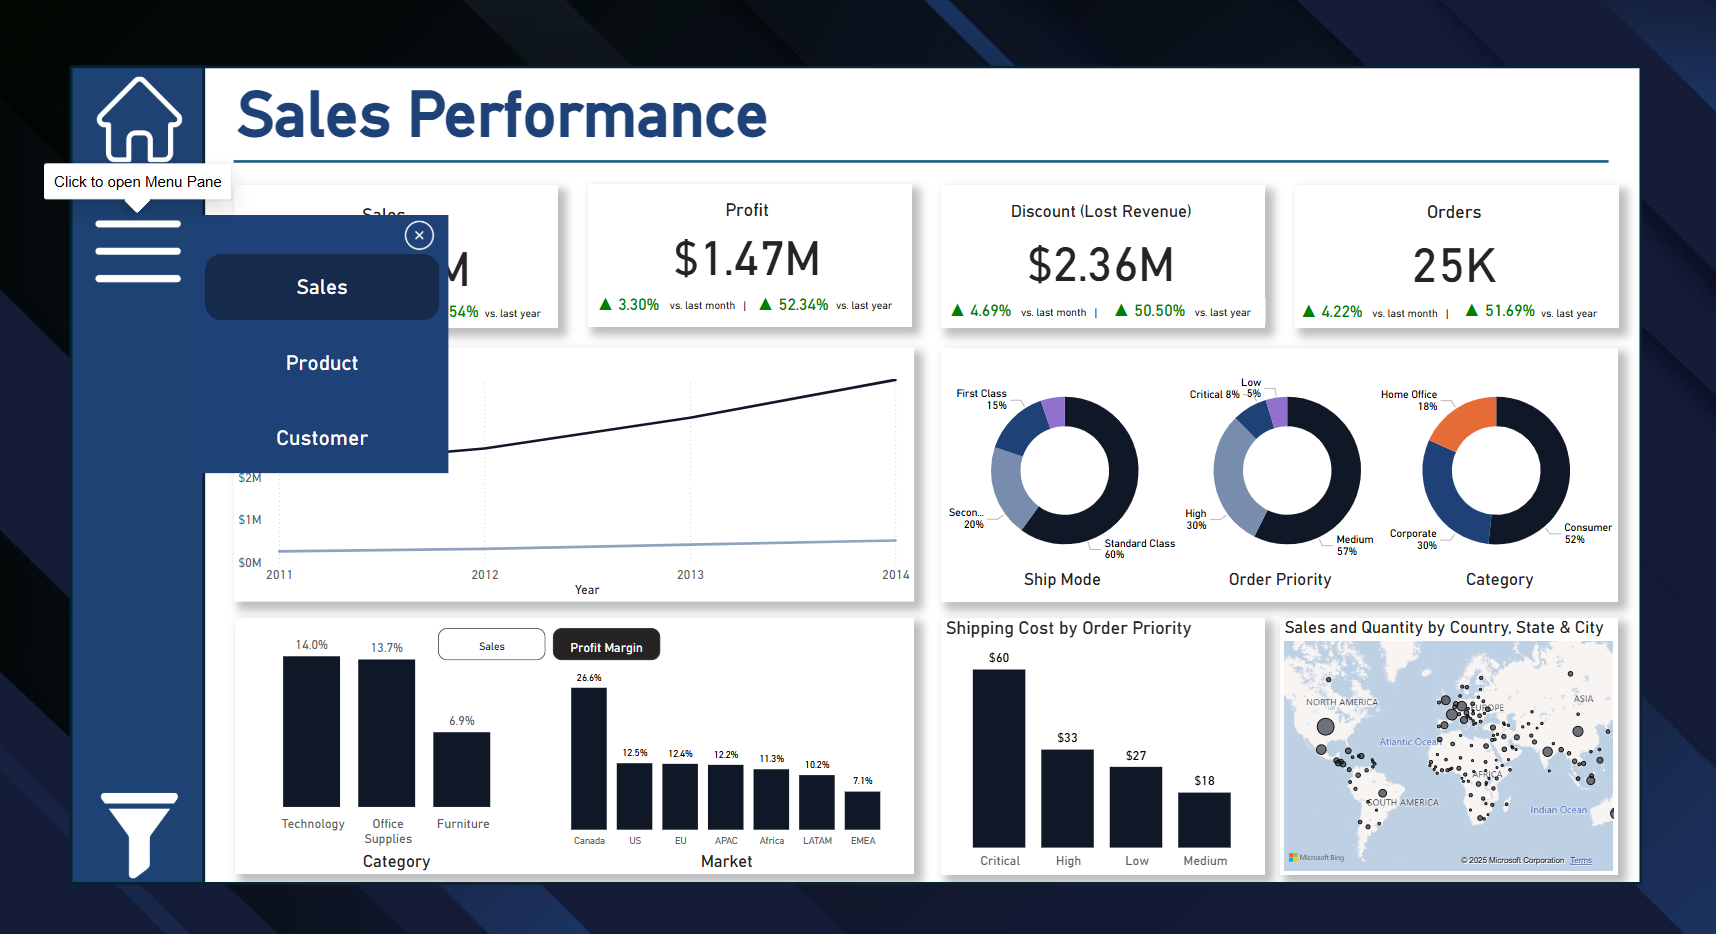

This screenshot's page, from the dashboard's own definition file:
{"tool":"powerbi","page":{"name":"Sales","canvas":[1980,1080],"ordinal":1},"visuals":[{"type":"shape","box":[682.8,210.6,370,163],"z":0,"group":"g2"},{"type":"shape","box":[279,211,370,163],"z":0,"group":"g1"},{"type":"shape","box":[1086.9,211,370.2,163],"z":0,"group":"g4"},{"type":"shape","box":[1491,211,370,163],"z":0,"group":"g3"},{"type":"shape","box":[1087.4,397.1,773.8,290.3],"z":0},{"type":"card","fields":{"Values":["_Measures.Trend Icon MOM Profit"]},"box":[686.8,334.6,84.1,26.7],"z":1000,"group":"g2"},{"type":"card","fields":{"Values":["_Measures.Trend Icon MOM Sales"]},"box":[283,340,91,33],"z":1000,"group":"g1"},{"type":"card","fields":{"Values":["_Measures.Trend Icon MOM Discount"]},"box":[1089.6,340.9,83,28.4],"z":1000,"group":"g4"},{"type":"card","fields":{"Values":["_Measures.Trend Icon MOM Orders"]},"box":[1491,342,83,28],"z":1000,"group":"g3"},{"type":"shape","box":[279.4,706.1,776.3,293.9],"z":1000},{"type":"card","fields":{"Values":["_Measures.Trend Icon YOY Profit"]},"box":[866,334.9,103,28.9],"z":2000,"group":"g2"},{"type":"card","fields":{"Values":["_Measures.Trend Icon YOY Discount"]},"box":[1273.4,336,100,36.4],"z":2000,"group":"g4"},{"type":"card","fields":{"Values":["_Measures.Trend Icon YOY Orders"]},"box":[1672.8,336,103.4,37.5],"z":2000,"group":"g3"},{"type":"card","fields":{"Values":["_Measures.Trend Icon YOY Sales"]},"box":[464,339,105,34],"z":2000,"group":"g1"},{"type":"donutChart","fields":{"Category":["orders.Order Category"],"Y":["_Measures.Line Count"]},"box":[1583,403.2,277.7,270.2],"z":2000},{"type":"card","title":"Profit","fields":{"Values":["_Measures.Profit"]},"box":[757.4,227.5,216.3,99.4],"z":3000,"group":"g2"},{"type":"card","title":"Discount  (Lost Revenue)","fields":{"Values":["_Measures.Discount (Lost Revenue)"]},"box":[1161.6,229.6,216.4,109.2],"z":3000,"group":"g4"},{"type":"card","title":"Orders","fields":{"Values":["_Measures.Order Count"]},"box":[1565.3,229.6,215.2,109.6],"z":3000,"group":"g3"},{"type":"card","title":"Sales","fields":{"Values":["_Measures.Sales"]},"box":[340.6,231.7,219.8,114.3],"z":3000,"group":"g1"},{"type":"donutChart","fields":{"Y":["_Measures.Line Count"],"Category":["orders.Order Priority"]},"box":[1344.7,403.2,277,270.2],"z":3000},{"type":"textbox","box":[276.8,82.1,683.9,101.8],"z":4000},{"type":"textbox","box":[771,335,107,32],"z":4000,"group":"g2"},{"type":"textbox","box":[1172.2,341.2,106,29],"z":4000,"group":"g4"},{"type":"textbox","box":[364.1,341.9,112.8,31.9],"z":4000,"group":"g1"},{"type":"textbox","box":[1574,342,112,29],"z":4000,"group":"g3"},{"type":"group","id":"g1","title":"Sales Card","box":[279,211,370,163],"z":5000},{"type":"textbox","box":[961.1,335.3,89.1,32.7],"z":5000,"group":"g2"},{"type":"textbox","box":[1371,341,86,28],"z":5000,"group":"g4"},{"type":"textbox","box":[561,342,84,30],"z":5000,"group":"g1"},{"type":"textbox","box":[1766,342,88,29],"z":5000,"group":"g3"},{"type":"group","id":"g2","title":"Profit Card","box":[682.8,210.6,370,163],"z":6000},{"type":"lineChart","title":"Sales and Profit over Time","fields":{"Category":["Date.Date Hierarchy.Year","Date.Date Hierarchy.Quarter","Date.Date Hierarchy.Month Short","Date.Date Hierarchy.Date"],"Y":["_Measures.Sales","_Measures.Profit"]},"box":[278.4,396.9,777.3,290],"z":8000},{"type":"group","id":"g3","title":"Orders Card","box":[1491,211,370,163],"z":9000},{"type":"group","id":"g4","title":"Discount Card","box":[1086.9,211,370.2,163],"z":10000},{"type":"columnChart","fields":{"Y":["_Measures.Sales","_Measures.Profit Margin"],"Category":["product.Category"]},"box":[283,712,332,264],"z":11000},{"type":"advancedSlicerVisual","fields":{"Values":["Metrics.Metrics"]},"box":[506.5,712.2,264.2,47.2],"z":12000},{"type":"map","title":"Sales and Quantity by Country, State & City","fields":{"Category":["store.city Hierarchy.country","store.city Hierarchy.state","store.city Hierarchy.city"],"Size":["_Measures.Sales"]},"box":[1474.8,705.8,386.4,294.2],"z":13000},{"type":"columnChart","title":"Shipping Cost by Order Priority","fields":{"Y":["_Measures.Avg Shipping Cost"],"Category":["orders.Order Priority"]},"box":[1087.4,705.8,369.9,294.2],"z":14000},{"type":"columnChart","fields":{"Y":["_Measures.Sales","_Measures.Profit Margin"],"Category":["store.market"]},"box":[639,752,406,224],"z":15000},{"type":"donutChart","fields":{"Y":["_Measures.Line Count"],"Category":["orders.ship_mode"]},"box":[1089.4,403.2,277,270.2],"z":16000},{"type":"textbox","box":[405,969,118,40],"z":17000},{"type":"textbox","box":[800,968,84,41],"z":18000},{"type":"textbox","box":[1164.9,645.7,122.3,41.5],"z":19000},{"type":"textbox","box":[1393.6,645.7,160.6,41.5],"z":20000},{"type":"textbox","box":[1663.8,645.7,122.3,41.5],"z":21000},{"type":"image","box":[75,246.4,187.5,107.1],"z":22000},{"type":"image","box":[76.8,901.8,187,107],"z":23000},{"type":"image","box":[76.8,82.1,187,107],"z":24000}]}

Visuals, with their boxes on the page's 1980x1080 design canvas (x1, y1, x2, y2). These are canvas units, not pixel positions in the 1716x934 screenshot, which may show the page scaled, cropped or inside an application window:
shape: <box>683,211,1053,374</box>
shape: <box>279,211,649,374</box>
shape: <box>1087,211,1457,374</box>
shape: <box>1491,211,1861,374</box>
shape: <box>1087,397,1861,687</box>
card - _Measures.Trend Icon MOM Profit: <box>687,335,771,361</box>
card - _Measures.Trend Icon MOM Sales: <box>283,340,374,373</box>
card - _Measures.Trend Icon MOM Discount: <box>1090,341,1173,369</box>
card - _Measures.Trend Icon MOM Orders: <box>1491,342,1574,370</box>
shape: <box>279,706,1056,1000</box>
card - _Measures.Trend Icon YOY Profit: <box>866,335,969,364</box>
card - _Measures.Trend Icon YOY Discount: <box>1273,336,1373,372</box>
card - _Measures.Trend Icon YOY Orders: <box>1673,336,1776,374</box>
card - _Measures.Trend Icon YOY Sales: <box>464,339,569,373</box>
donutChart - orders.Order Category x _Measures.Line Count: <box>1583,403,1861,673</box>
"Profit" card: <box>757,228,974,327</box>
"Discount  (Lost Revenue)" card: <box>1162,230,1378,339</box>
"Orders" card: <box>1565,230,1780,339</box>
"Sales" card: <box>341,232,560,346</box>
donutChart - _Measures.Line Count x orders.Order Priority: <box>1345,403,1622,673</box>
textbox: <box>277,82,961,184</box>
textbox: <box>771,335,878,367</box>
textbox: <box>1172,341,1278,370</box>
textbox: <box>364,342,477,374</box>
textbox: <box>1574,342,1686,371</box>
"Sales Card" group: <box>279,211,649,374</box>
textbox: <box>961,335,1050,368</box>
textbox: <box>1371,341,1457,369</box>
textbox: <box>561,342,645,372</box>
textbox: <box>1766,342,1854,371</box>
"Profit Card" group: <box>683,211,1053,374</box>
"Sales and Profit over Time" lineChart: <box>278,397,1056,687</box>
"Orders Card" group: <box>1491,211,1861,374</box>
"Discount Card" group: <box>1087,211,1457,374</box>
columnChart - _Measures.Sales x _Measures.Profit Margin: <box>283,712,615,976</box>
advancedSlicerVisual - Metrics.Metrics: <box>506,712,771,759</box>
"Sales and Quantity by Country, State & City" map: <box>1475,706,1861,1000</box>
"Shipping Cost by Order Priority" columnChart: <box>1087,706,1457,1000</box>
columnChart - _Measures.Sales x _Measures.Profit Margin: <box>639,752,1045,976</box>
donutChart - _Measures.Line Count x orders.ship_mode: <box>1089,403,1366,673</box>
textbox: <box>405,969,523,1009</box>
textbox: <box>800,968,884,1009</box>
textbox: <box>1165,646,1287,687</box>
textbox: <box>1394,646,1554,687</box>
textbox: <box>1664,646,1786,687</box>
image: <box>75,246,262,354</box>
image: <box>77,902,264,1009</box>
image: <box>77,82,264,189</box>
